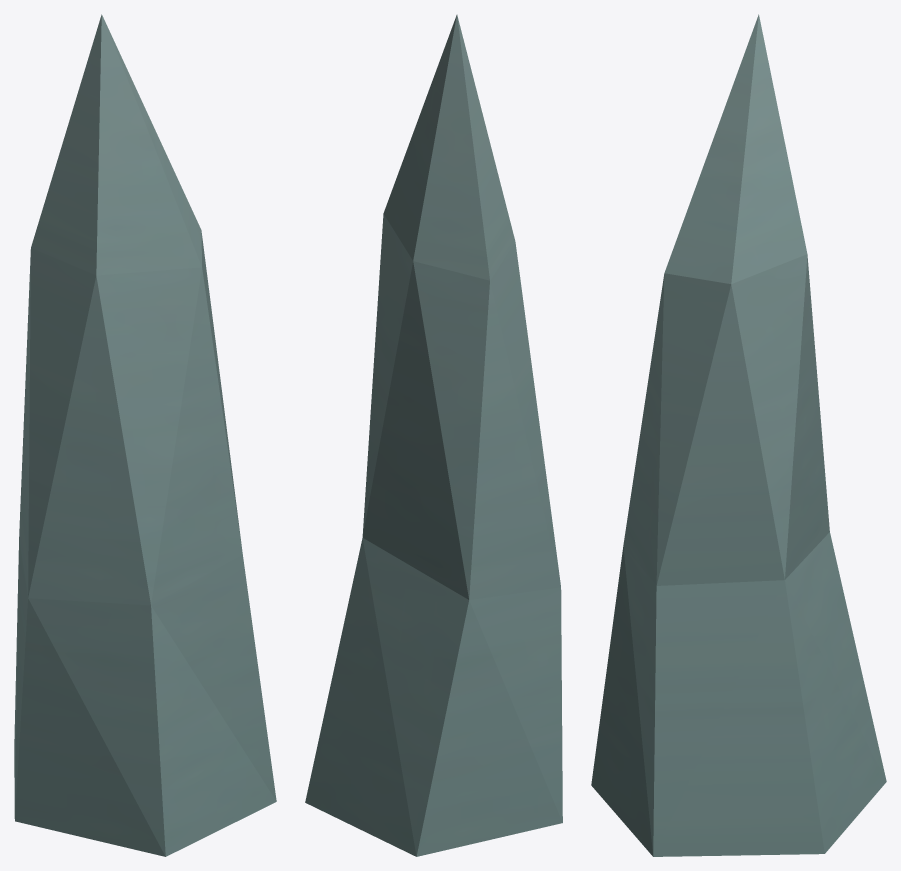
Rendered from icicle_E.obj.
3 views of the same model, side by side, from view 1: azimuth 30°, elevation 25°; view 2: azimuth 150°, elevation 25°; view 3: azimuth 270°, elevation 25° (orthographic).
Parts seen in each view (by area): view 1: icicle_E; view 2: icicle_E; view 3: icicle_E.
Part boxes in pixels (x1,y1,x2,y2): icicle_E: (14,14,276,856); icicle_E: (305,14,562,856); icicle_E: (591,14,886,856).
Size of the model in its own units: 0.1022 by 0.3492 by 0.1194.
